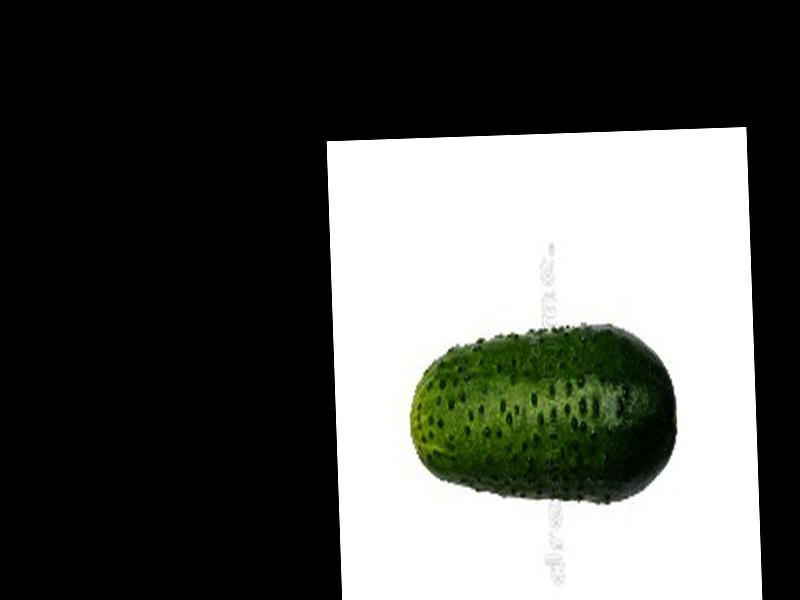Cucumber: (405, 319, 679, 510)
